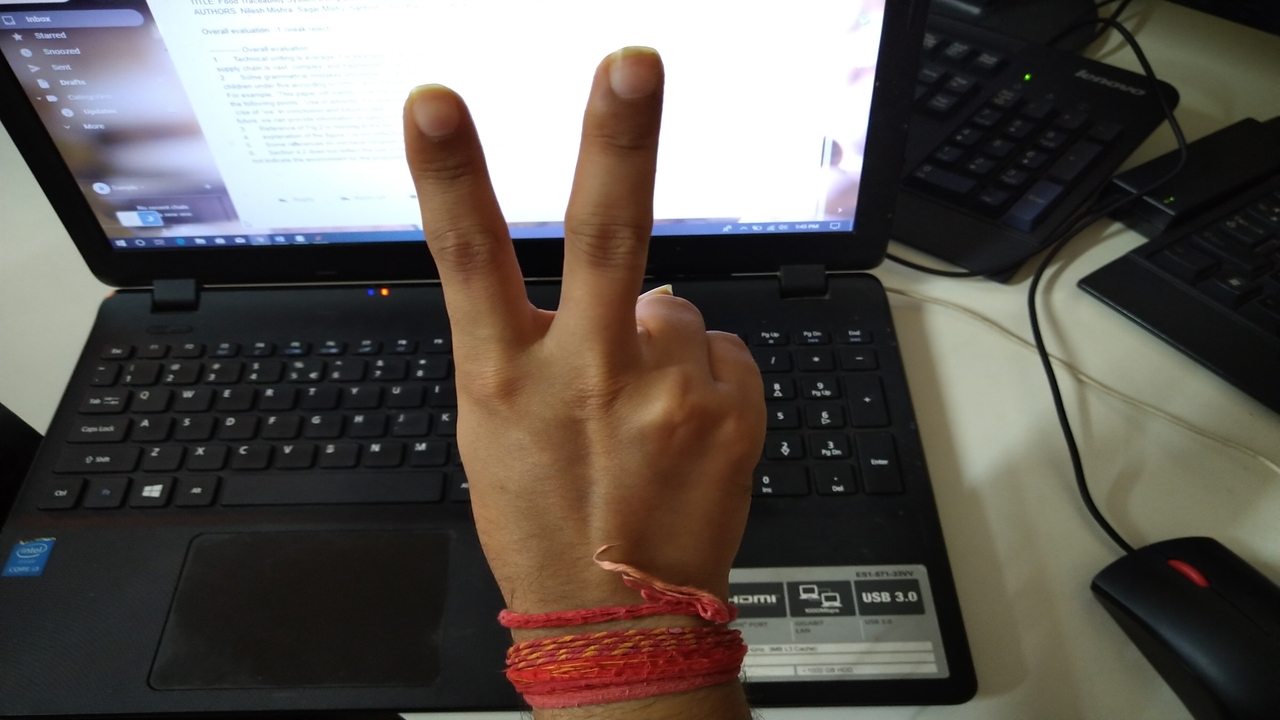fingertip: (592, 40, 667, 110), (394, 81, 466, 146)
